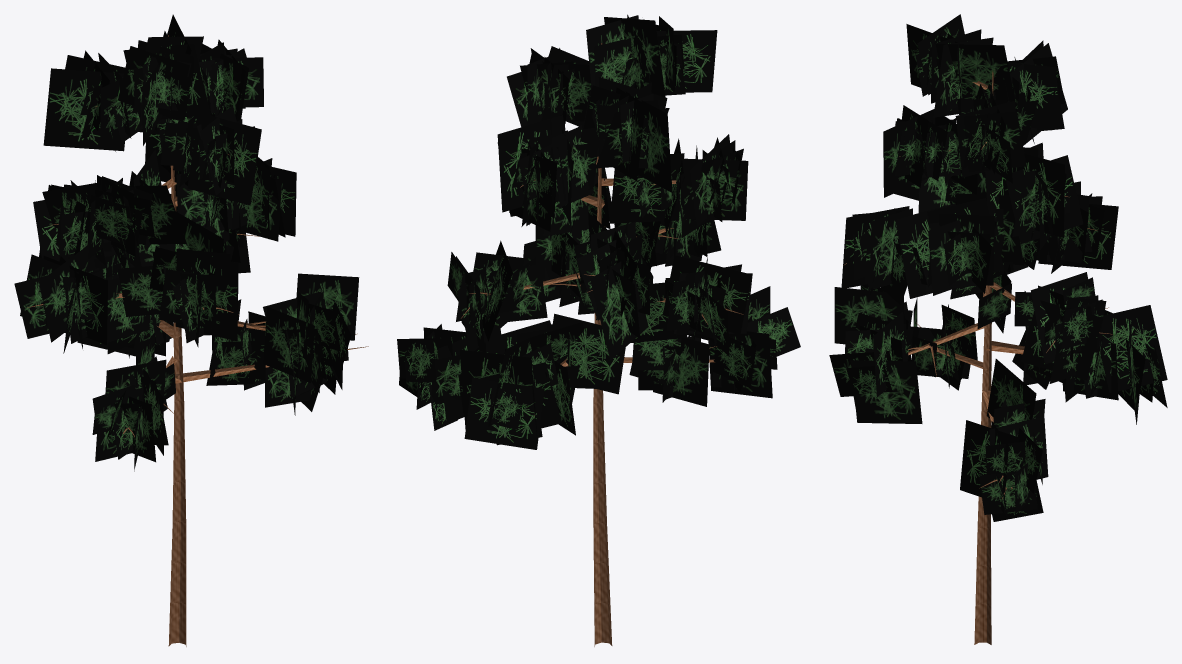
Rendered from Pine_TallMature_LOD1.glb.
3 renders of one model, left to right at view 1: azimuth 30°, elevation 25°; view 2: azimuth 150°, elevation 25°; view 3: azimuth 270°, elevation 25°, orthographic. The views are drawn at different scales.
Parts seen in each view (by area): view 1: Leaves_04, Leaves_03, Leaves_06, Leaves_12, Leaves_11, Leaves_01, Leaves_14, Leaves_09, Leaves_08, Leaves_00, Leaves_07, Trunk_Mesh (+5 smaller); view 2: Leaves_02, Leaves_01, Leaves_14, Leaves_10, Leaves_09, Leaves_04, Leaves_12, Leaves_07, Leaves_05, Leaves_00, Leaves_13, Trunk_Mesh (+3 smaller); view 3: Leaves_00, Leaves_03, Leaves_05, Leaves_02, Leaves_08, Leaves_06, Leaves_14, Leaves_10, Leaves_11, Leaves_01, Leaves_13, Leaves_07 (+5 smaller).
Boxes of the visible parts, x1,y1,x2,y2 form: Leaves_04: (14,245,162,353); Leaves_03: (240,273,359,392); Leaves_06: (149,211,238,347); Leaves_12: (43,50,159,151); Leaves_11: (158,103,261,205); Leaves_01: (92,332,175,471); Leaves_14: (118,14,210,145); Leaves_09: (84,149,186,274); Leaves_08: (174,157,296,242); Leaves_00: (206,299,348,415); Leaves_07: (33,180,171,268); Trunk_Mesh: (168,35,186,646); Leaves_02: (459,313,625,449); Leaves_01: (629,286,800,406); Leaves_14: (586,14,717,97); Leaves_10: (497,115,603,231); Leaves_09: (610,134,748,237); Leaves_04: (631,255,752,356); Leaves_12: (580,77,672,192); Leaves_07: (574,212,649,360); Leaves_05: (447,240,586,352); Leaves_00: (397,320,550,430); Leaves_13: (507,46,591,135); Trunk_Mesh: (593,43,612,646); Leaves_00: (960,359,1048,521); Leaves_03: (829,312,936,423); Leaves_05: (977,272,1106,383); Leaves_02: (1012,305,1167,424); Leaves_08: (927,192,1023,295); Leaves_06: (841,203,955,305); Leaves_14: (906,14,1015,117); Leaves_10: (972,142,1083,250); Leaves_11: (883,105,977,197); Leaves_01: (834,284,977,390); Leaves_13: (955,84,1026,183); Leaves_07: (993,181,1118,278).
Bounding box in the file's own units: 10.88 × 19.5 × 9.83.
Materials: 2 (2 with a texture image).
